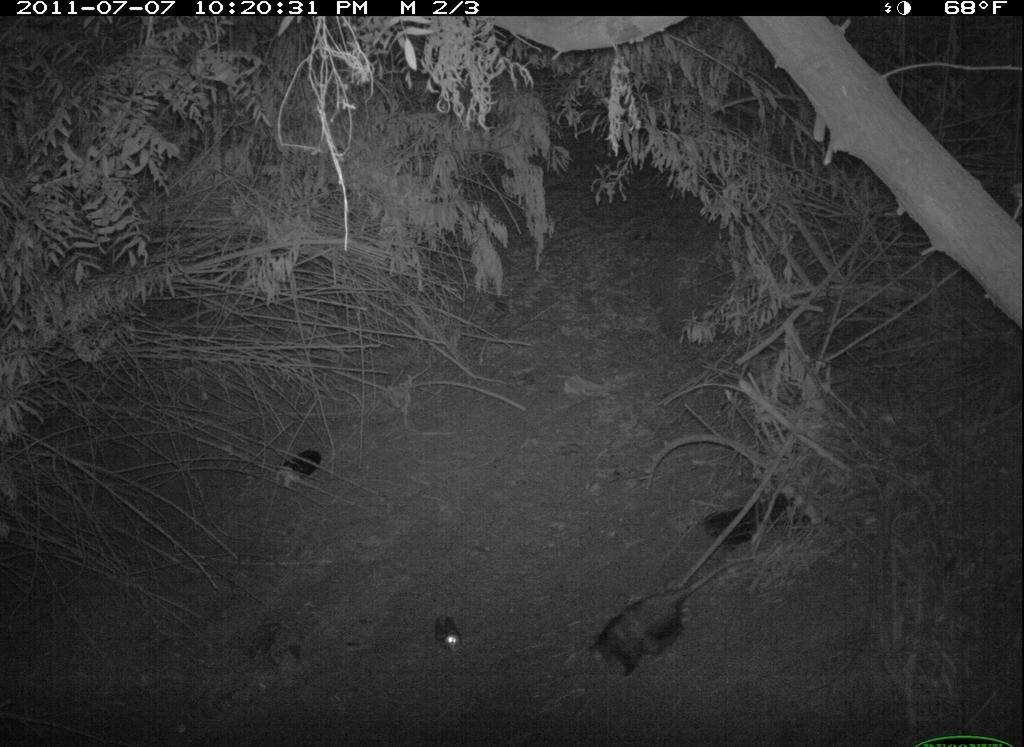opossum: (577, 550, 784, 688)
